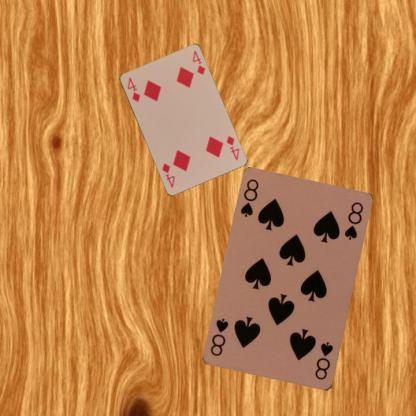4d: (124, 74, 141, 103), (224, 133, 240, 161)
8s: (312, 340, 334, 381), (238, 177, 260, 218)
